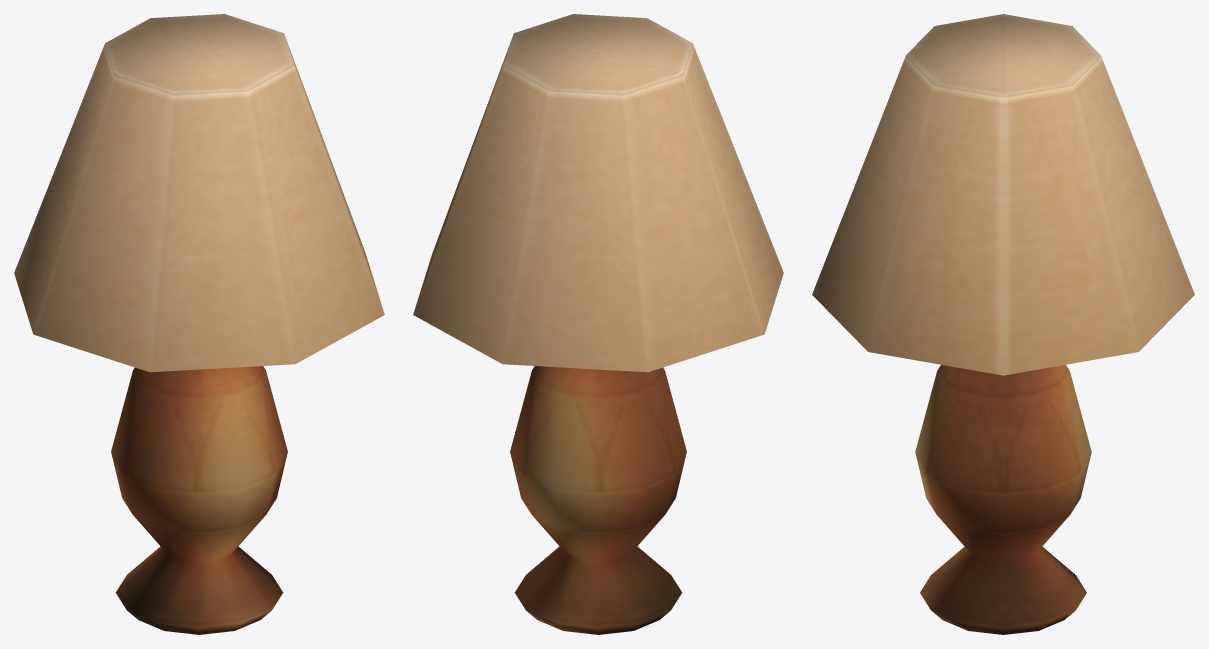
The model's file is ShenMiRenJia_01_taideng_01_uv2.fbx.
3 views of the same model, side by side, from view 1: azimuth 30°, elevation 25°; view 2: azimuth 150°, elevation 25°; view 3: azimuth 270°, elevation 25° (orthographic).
Parts seen in each view (by area): view 1: ShenMiRenJia_01_taideng_01; view 2: ShenMiRenJia_01_taideng_01; view 3: ShenMiRenJia_01_taideng_01.
Boxes of the visible parts, <box> form: ShenMiRenJia_01_taideng_01: <box>14,14,384,634</box>; ShenMiRenJia_01_taideng_01: <box>413,14,783,634</box>; ShenMiRenJia_01_taideng_01: <box>812,14,1194,634</box>.
Size of the model in its own units: 178 by 282 by 178.
